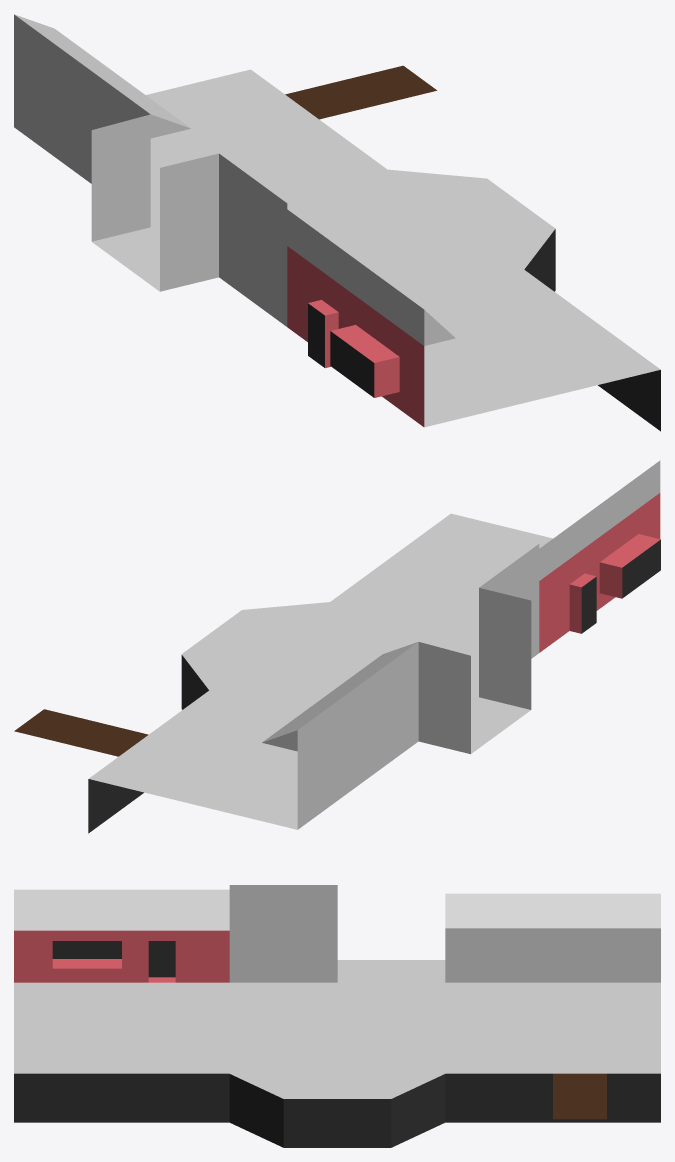
File: Backstreetblockout3.glb
The picture shows the model from 3 angles, top to bottom: view 1: azimuth 30°, elevation 25°; view 2: azimuth 150°, elevation 25°; view 3: azimuth 270°, elevation 25°; orthographic projection. The views are drawn at different scales.
Visible parts, largest first — view 1: Street2.col; view 2: Street2.col; view 3: Street2.col.
Part boxes in pixels (bbox=[...]): Street2.col: bbox=[14, 14, 660, 431]; Street2.col: bbox=[14, 460, 660, 833]; Street2.col: bbox=[14, 885, 660, 1147].
Bounding box in the file's own units: 35 × 15 × 60.
